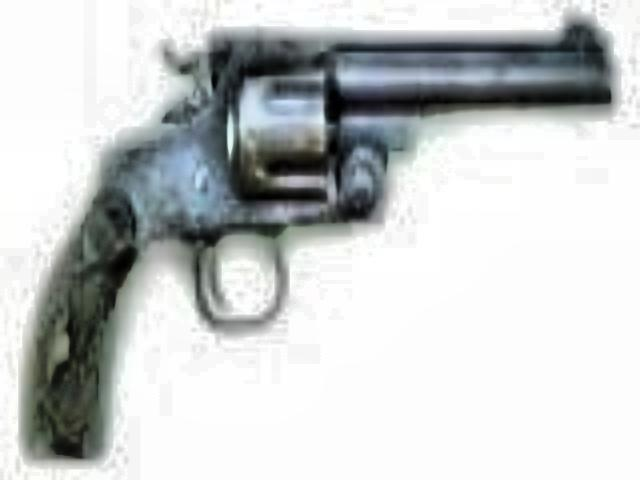pistol: (12, 8, 612, 452)
